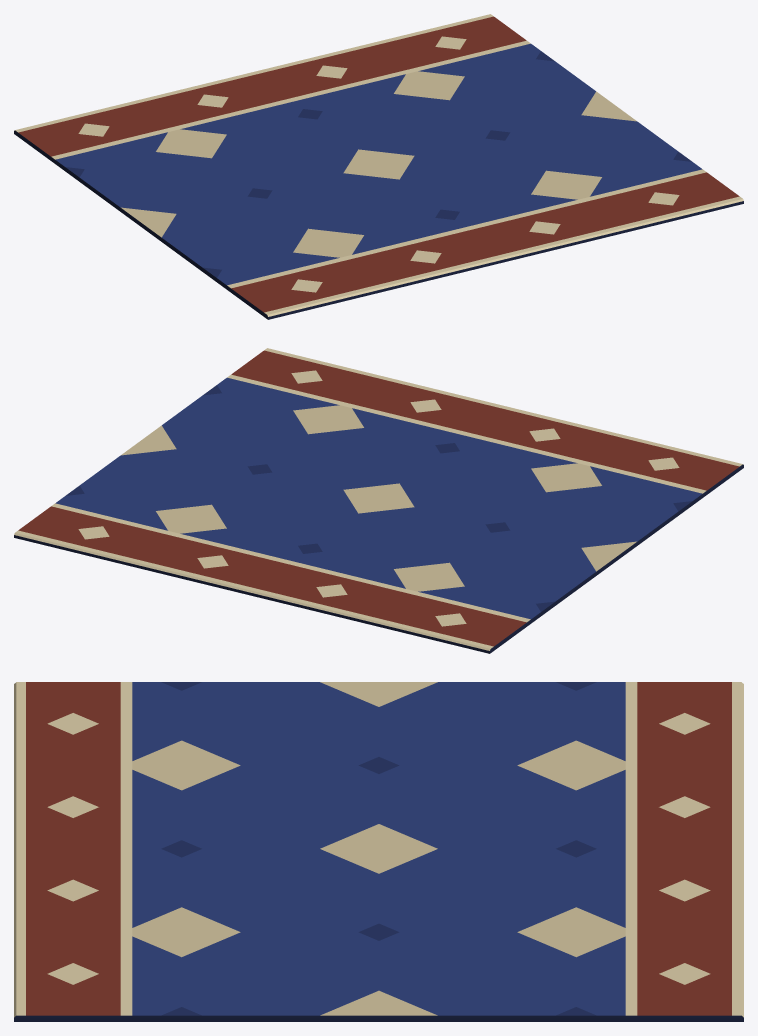
Rendered from carpet_blue_runner_A.glb.
3 renders of one model, top to bottom at view 1: azimuth 30°, elevation 25°; view 2: azimuth 150°, elevation 25°; view 3: azimuth 270°, elevation 25°, orthographic. The views are drawn at different scales.
Parts seen in each view (by area): view 1: Item; view 2: Item; view 3: Item.
Boxes of the visible parts, box(x1,y1,x2,y2) form: Item: box(14, 14, 743, 319); Item: box(14, 348, 743, 653); Item: box(14, 682, 743, 1021).
Bounding box in the file's own units: 4 × 0.035 × 3.7.
Materials: 1 (1 with a texture image).
